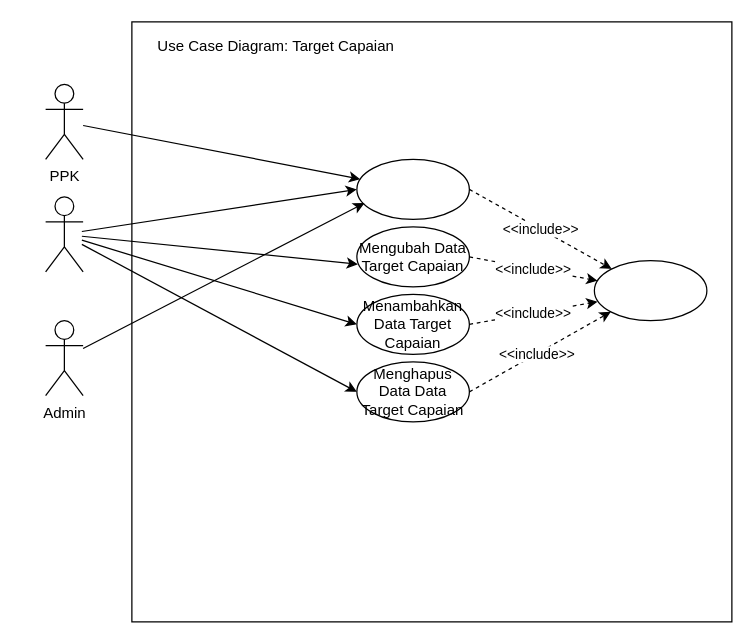
This 754x644 diagram has some shape labels left out. The shapes that lost their labels are listed below. From the top down, each one's centre as x and y in pixels, then its label:
At [412,188]: "Melihat Data Target Capaian".
At [63,234]: "Super Admin".
At [650,290]: "Login".
